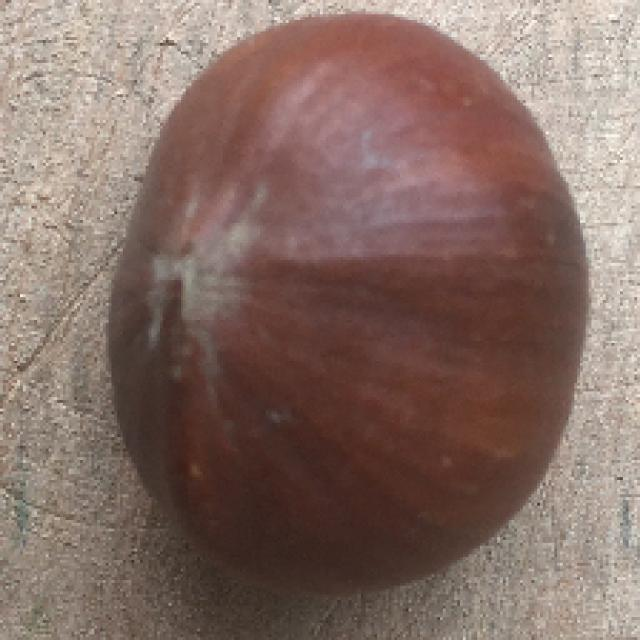qualityHazelnut: (106, 14, 586, 594)
